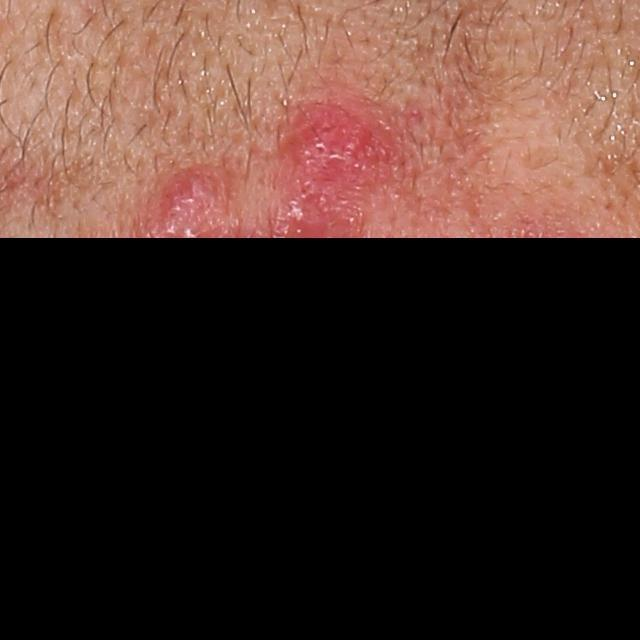papule: (275, 106, 405, 184), (158, 153, 229, 226)
